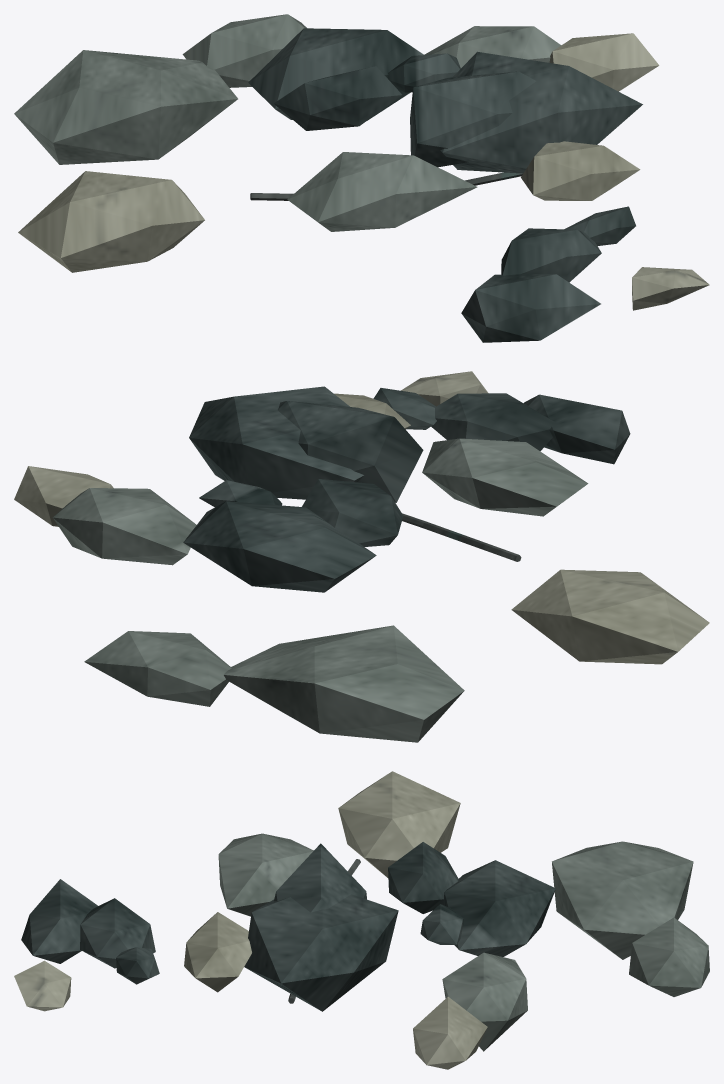
Rendered from 0124_scree_pile_24.glb.
3 renders of one model, top to bottom at view 1: azimuth 30°, elevation 25°; view 2: azimuth 150°, elevation 25°; view 3: azimuth 270°, elevation 25°, orthographic. The views are drawn at different scales.
Visible parts, largest first — view 1: stone_dark, stone, stone_light, iron; view 2: stone_dark, stone, stone_light, iron; view 3: stone_dark, stone, stone_light.
Boxes of the visible parts, x1,y1,x2,y2 form: stone_dark: (248,28,642,342); stone: (14,14,561,231); stone_light: (18,33,709,310); iron: (250,172,522,200); stone_dark: (183,386,630,592); stone: (53,438,588,742); stone_light: (14,371,709,664); iron: (402,513,521,561); stone_dark: (21,842,555,1011); stone: (218,833,709,1051); stone_light: (14,771,487,1069).
Size of the model in its own units: 3.04 by 0.7093 by 3.14.
Materials: 4 (4 with a texture image).
